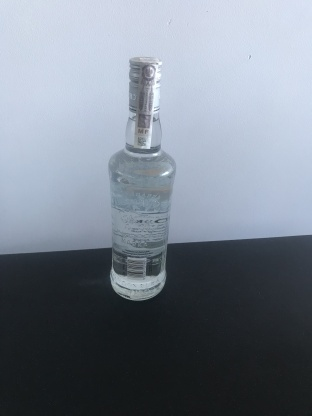nakretka: (124, 52, 164, 117)
